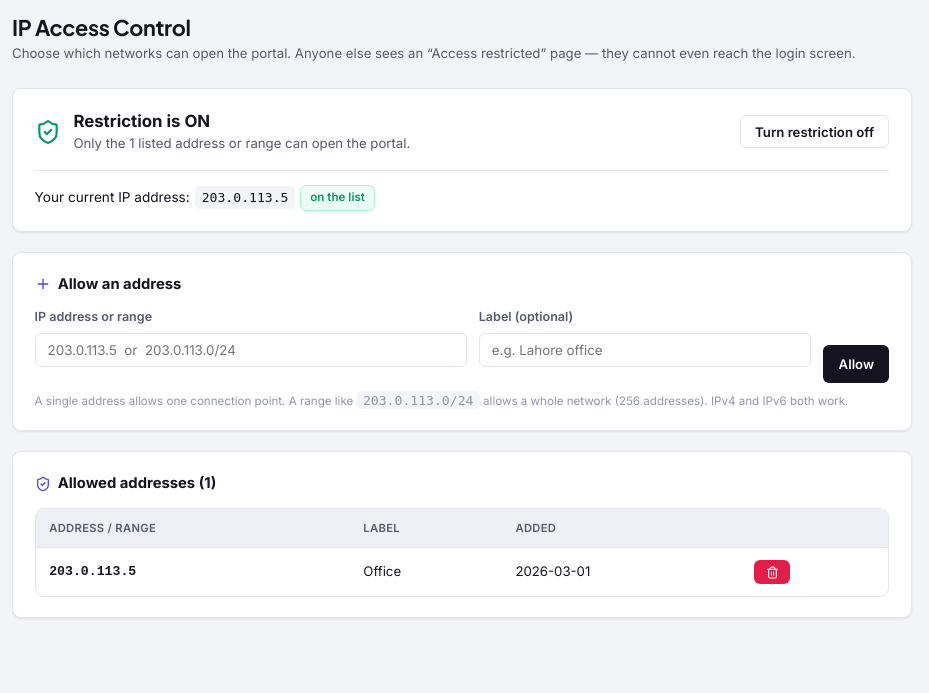
Test: AccessControl › removes an entry, and shows the reason when the server refuses (would lock the admin out)
The width and height of the screenshot is (929, 693).
Click the button named "Remove 203.0.113.5": {"x": 772, "y": 572} x1=754 y1=560 x2=790 y2=584
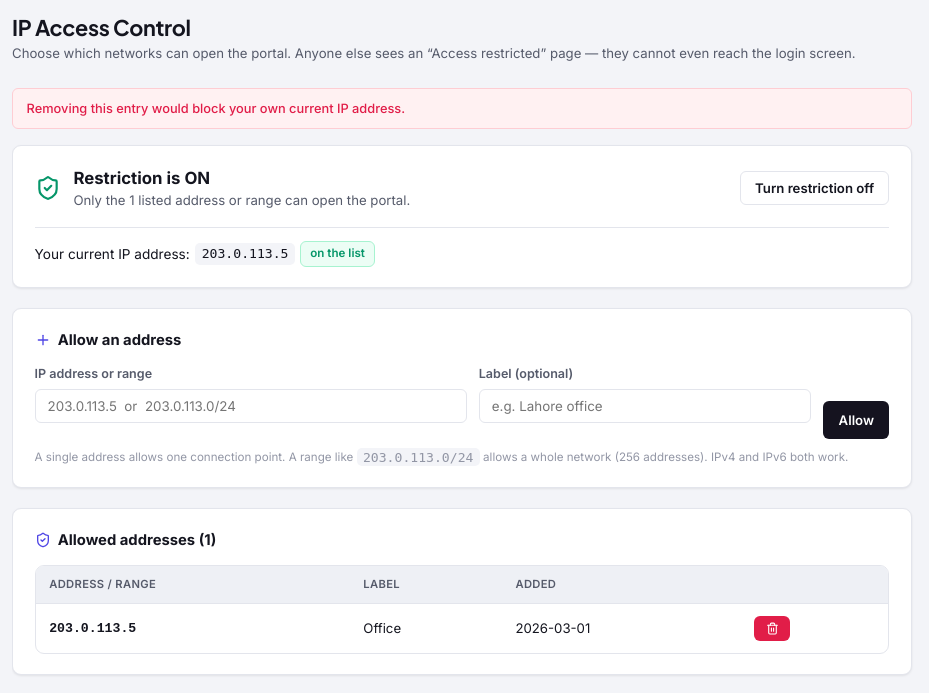
Expected: the text "Office" is shown, x1=350 y1=604 x2=502 y2=653
Expected: the message shows "block your own current IP", x1=27 y1=101 x2=405 y2=116
